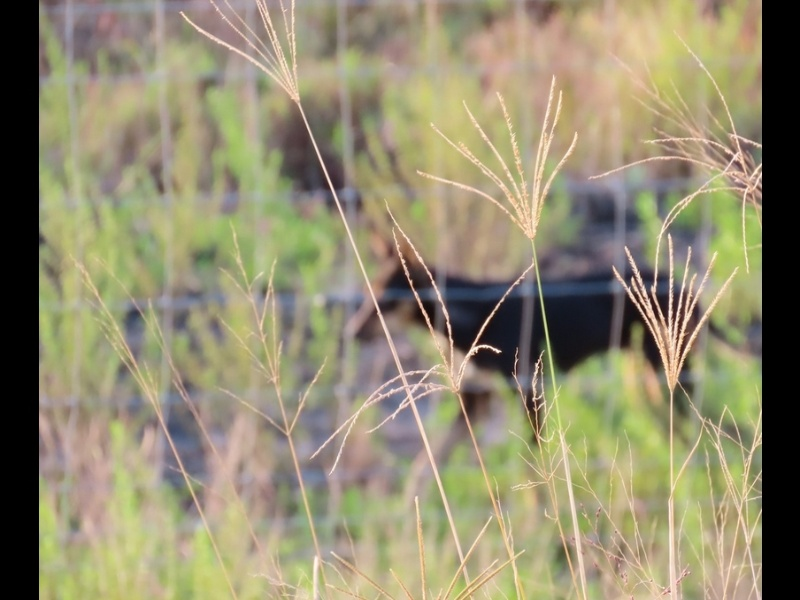dog: (348, 236, 730, 489)
